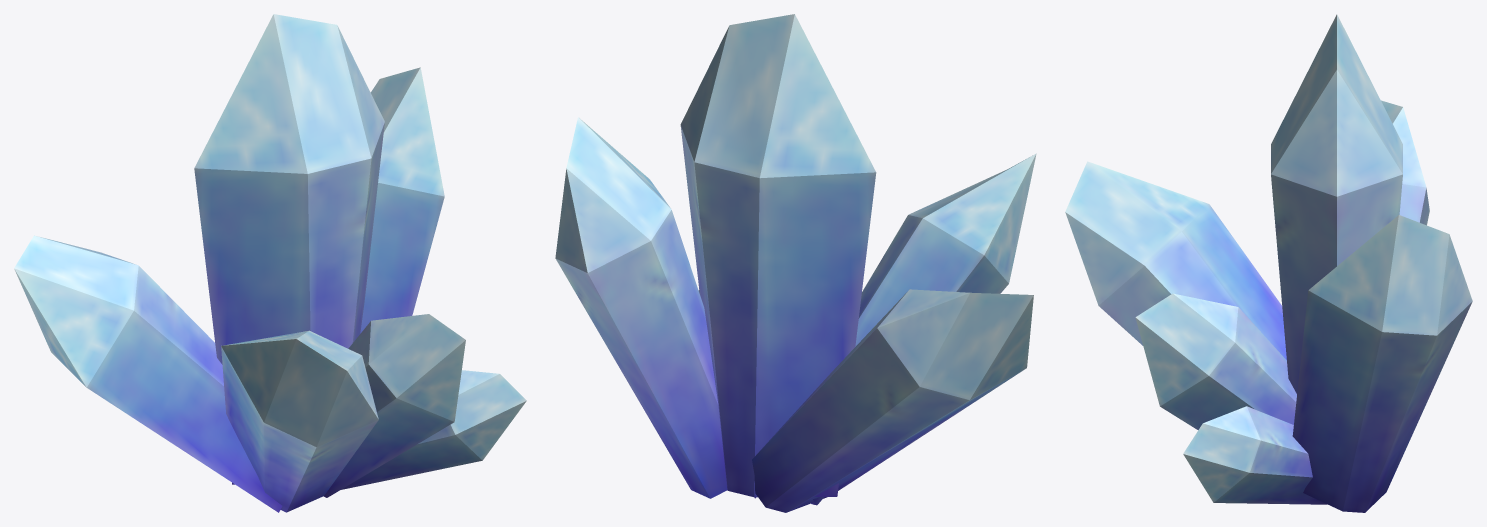
The model's file is crystal_3.FBX.
3 renders of one model, left to right at view 1: azimuth 30°, elevation 25°; view 2: azimuth 150°, elevation 25°; view 3: azimuth 270°, elevation 25°, orthographic. The views are drawn at different scales.
Parts seen in each view (by area): view 1: crystal_1; view 2: crystal_1; view 3: crystal_1.
Boxes of the visible parts, x1=… form: crystal_1: x1=14, y1=14, x2=526, y2=512; crystal_1: x1=555, y1=14, x2=1036, y2=512; crystal_1: x1=1065, y1=14, x2=1472, y2=512.
Bounding box in the file's own units: 9.15 × 9.78 × 7.67.
1 material, 1 textured.
